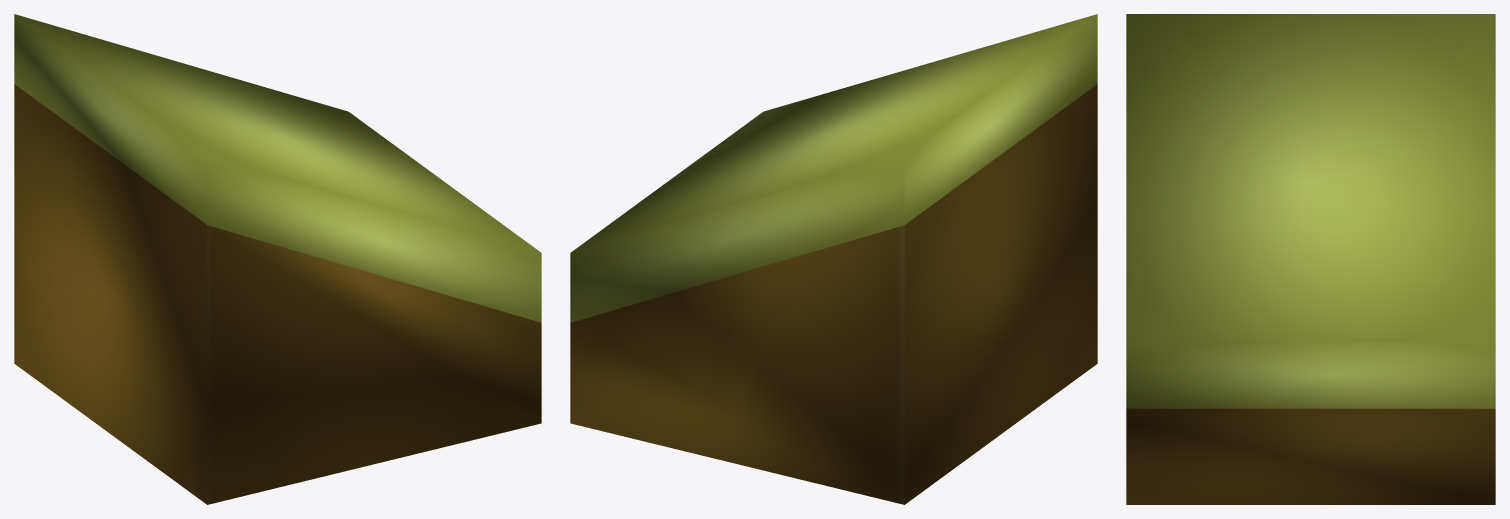
The model's file is block-ramp.gltf.
3 renders of one model, left to right at view 1: azimuth 30°, elevation 25°; view 2: azimuth 150°, elevation 25°; view 3: azimuth 270°, elevation 25°, orthographic. The views are drawn at different scales.
Visible parts, largest first — view 1: cube-terrain-small-ramp.001; view 2: cube-terrain-small-ramp.001; view 3: cube-terrain-small-ramp.001.
Boxes of the visible parts, x1,y1,x2,y2 form: cube-terrain-small-ramp.001: (14,14,541,504); cube-terrain-small-ramp.001: (570,14,1097,504); cube-terrain-small-ramp.001: (1126,14,1495,504).
Bounding box in the file's own units: 2 × 2 × 2.
Materials: 1 (1 with a texture image).
